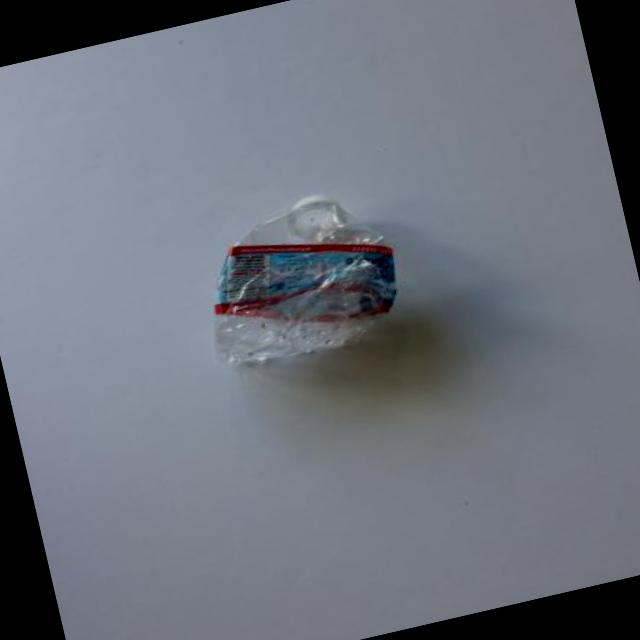plastic: (215, 198, 395, 363)
